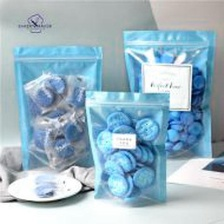snack: (116, 22, 221, 164), (7, 39, 109, 178), (77, 84, 174, 211)
